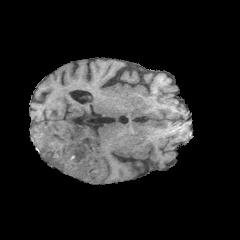glioma: (41, 131, 108, 182)
